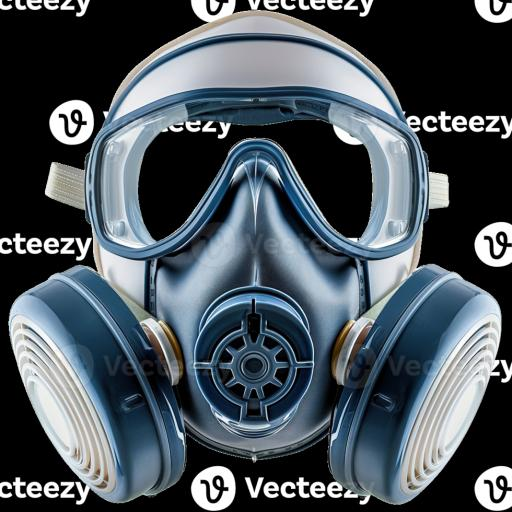mask: (11, 5, 504, 512)
